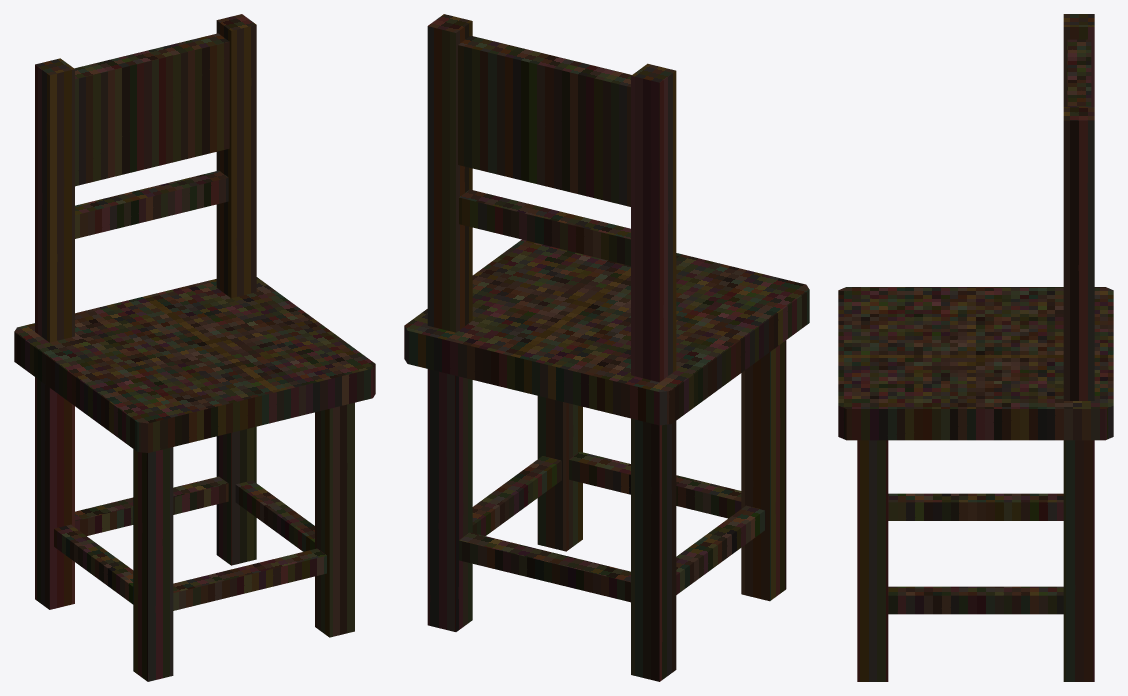
The model's file is Kitchen_Chair.glb.
3 views of the same model, side by side, from view 1: azimuth 30°, elevation 25°; view 2: azimuth 150°, elevation 25°; view 3: azimuth 270°, elevation 25° (orthographic). The views are drawn at different scales.
Parts seen in each view (by area): view 1: Chair; view 2: Chair; view 3: Chair.
Boxes of the visible parts, bbox=[...] form: Chair: bbox=[14, 14, 375, 681]; Chair: bbox=[404, 14, 809, 681]; Chair: bbox=[838, 14, 1113, 681].
Size of the model in its own units: 0.42 by 0.9 by 0.4.
1 material, 1 textured.
